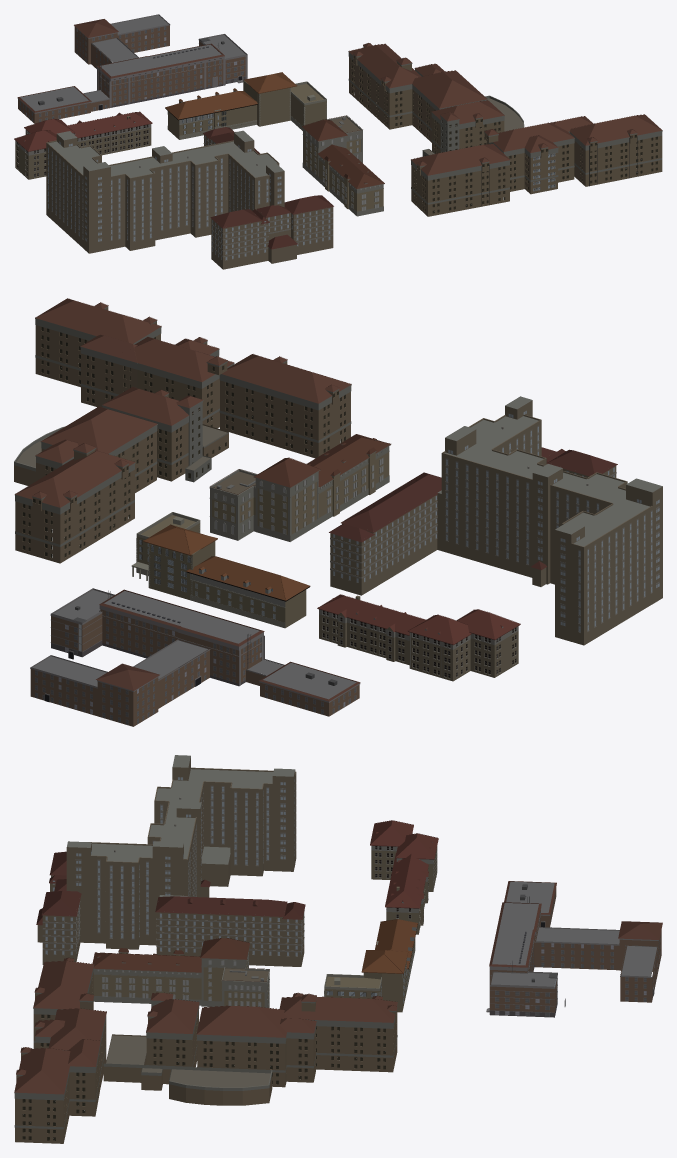
3 views of the same model, one above another, from view 1: azimuth 30°, elevation 25°; view 2: azimuth 150°, elevation 25°; view 3: azimuth 270°, elevation 25° (orthographic). The views are drawn at different scales.
Parts seen in each view (by area): view 1: opaque, glass; view 2: opaque, glass; view 3: opaque, glass.
Part boxes in pixels (x1,y1,x2,y2): opaque: [14, 14, 662, 269]; glass: [17, 29, 657, 259]; opaque: [14, 298, 662, 726]; glass: [22, 327, 659, 713]; opaque: [14, 755, 662, 1143]; glass: [22, 777, 659, 1140].
Bounding box in the file's own units: 259 × 40.1 × 238.
Materials: 2 (2 with a texture image).
